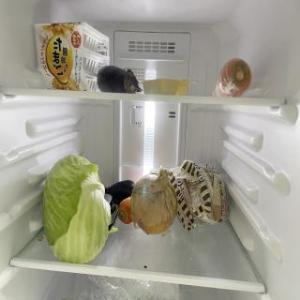cabbage: (42, 156, 112, 264)
carrot: (213, 56, 251, 97), (118, 195, 132, 224)
eggplant: (98, 65, 140, 92), (103, 180, 134, 202)
onion: (130, 168, 178, 234)
